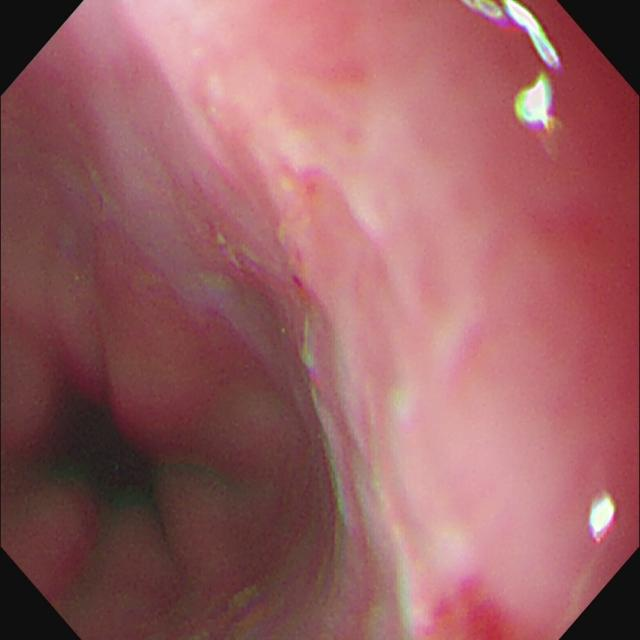C: (421, 576, 563, 640), (286, 275, 309, 295)
E: (55, 397, 151, 489)
U: (460, 2, 562, 71), (515, 74, 554, 131), (588, 496, 617, 543)
